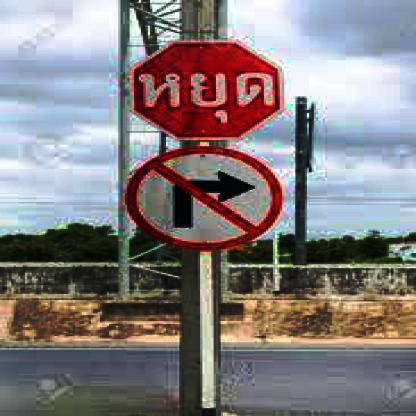No right turn: (130, 145, 283, 256)
